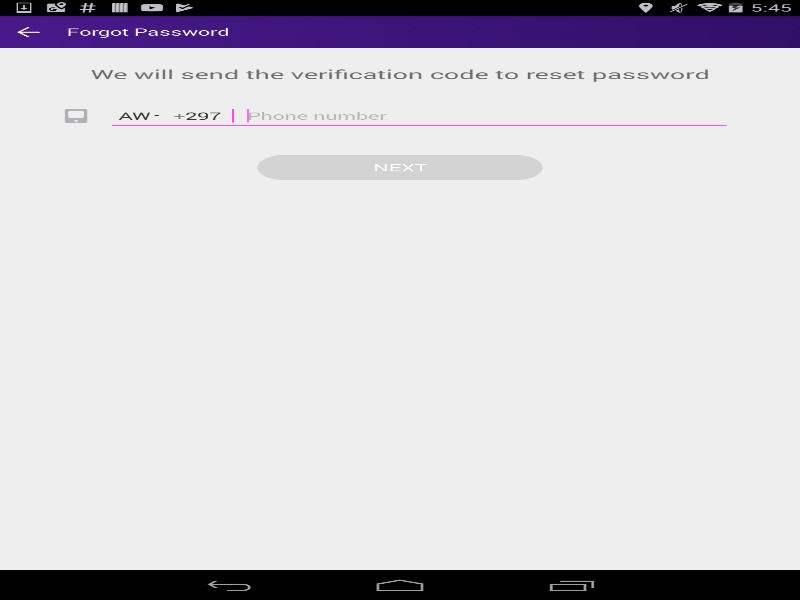Input: (240, 104, 726, 127)
